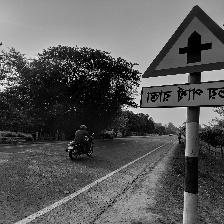Crossroad: (141, 2, 224, 120)
